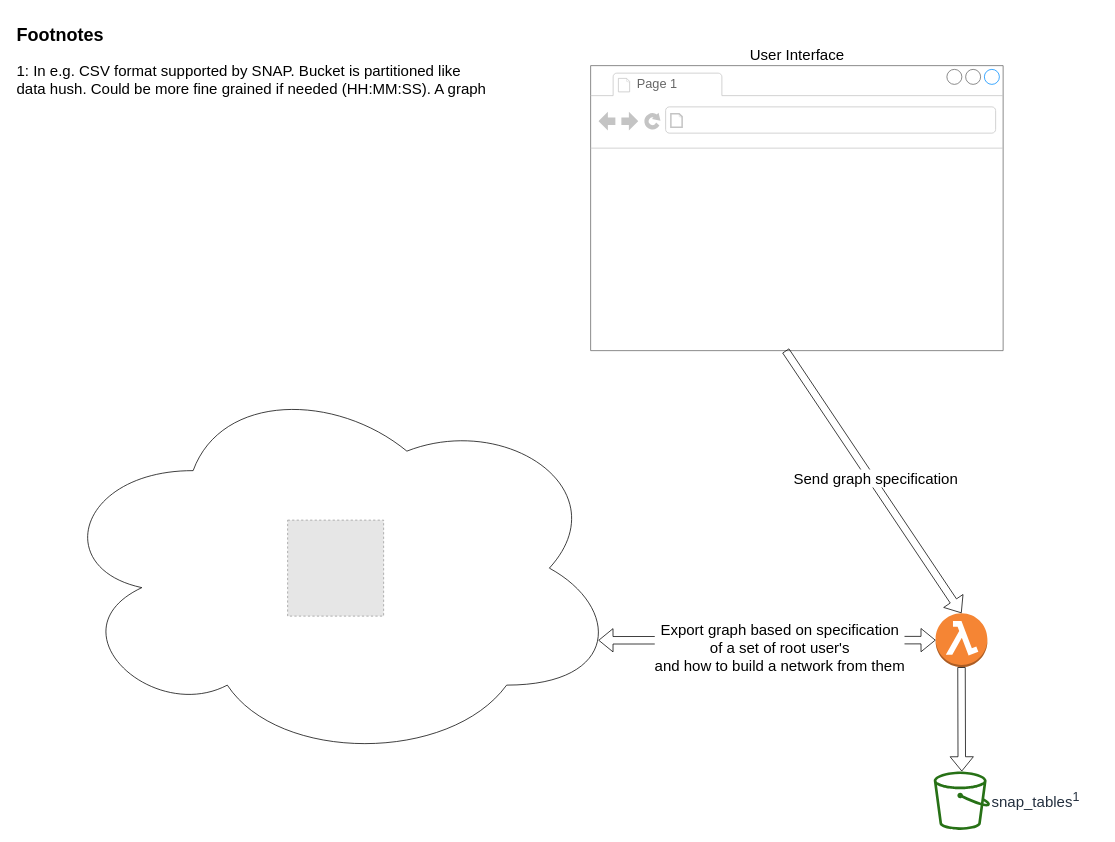
This 1115x842 diagram has some shape labels left out. Grey dashed boxes stand in for pictures. Each missing label, with the box of its shape:
build_snap_table: (935, 612, 987, 667)
https://www.draw.io: (687, 110, 876, 130)
